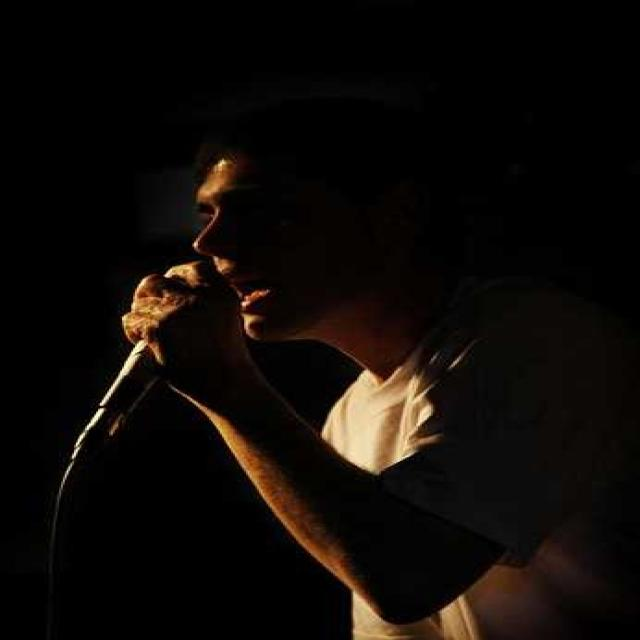microphone: (80, 250, 250, 437)
